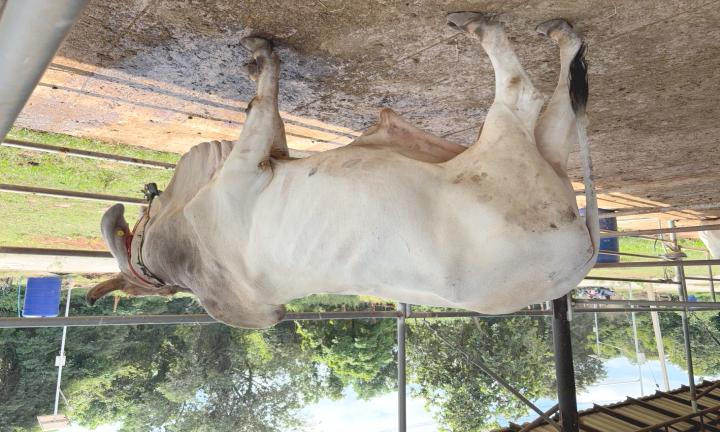Brahman: (87, 12, 600, 328)
